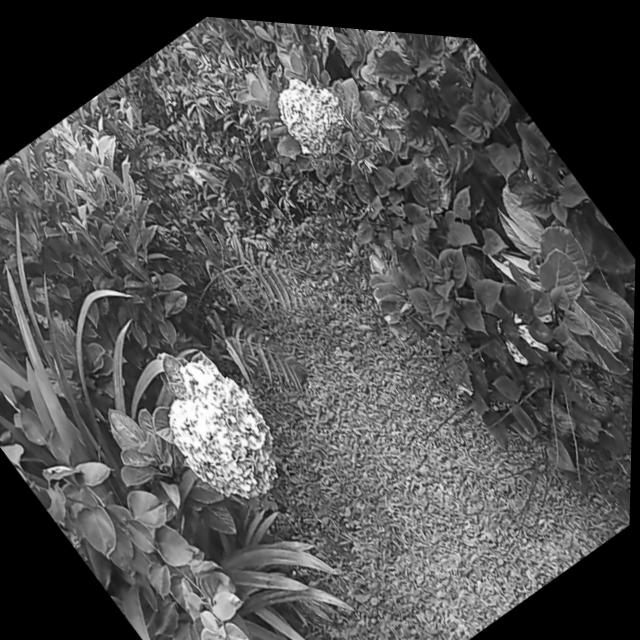Flower: (129, 325, 310, 523), (259, 48, 367, 164)
